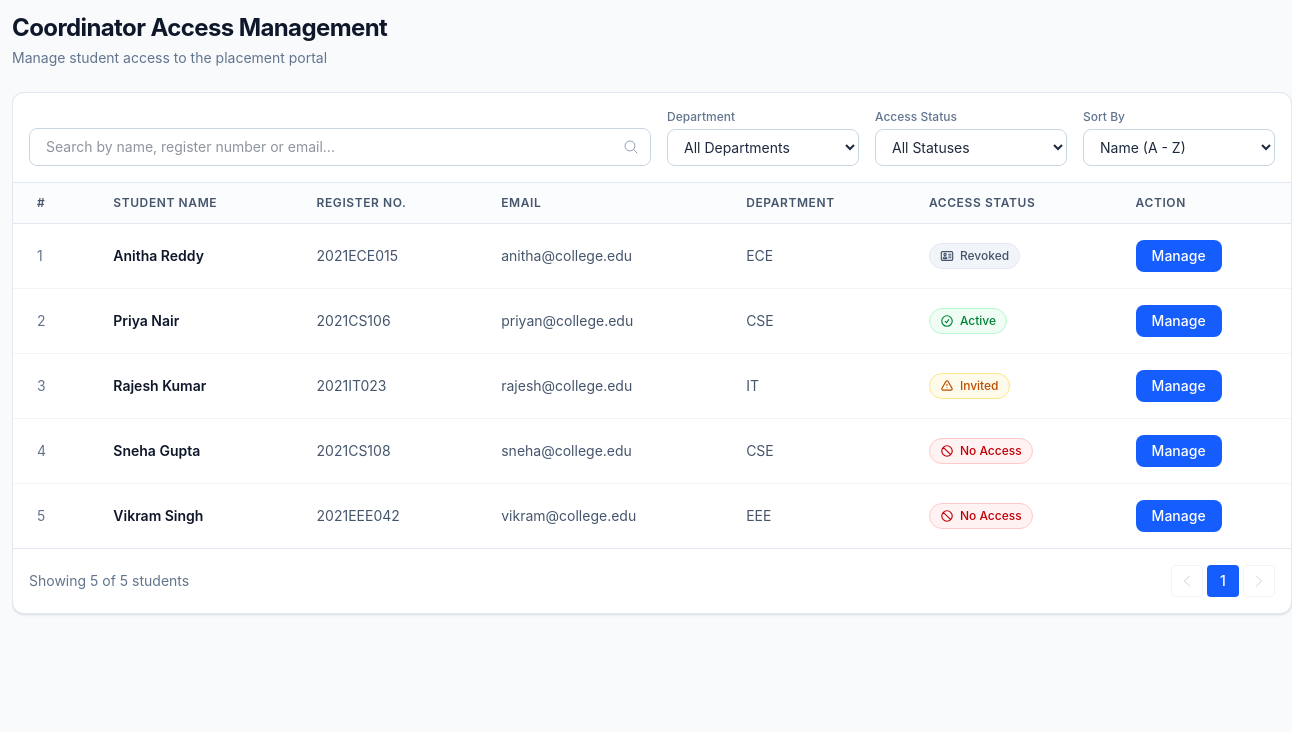
Test: Coordinator Access Management - Lifecycle Implementation › Student Access Directory › searches students by name
Expected: the text "Sneha Gupta" is shown, [89,418,292,484]
Type "Sneha" into the field with placeholder "Search by name, register number or email..." at (340, 147), box [29,128,651,166]
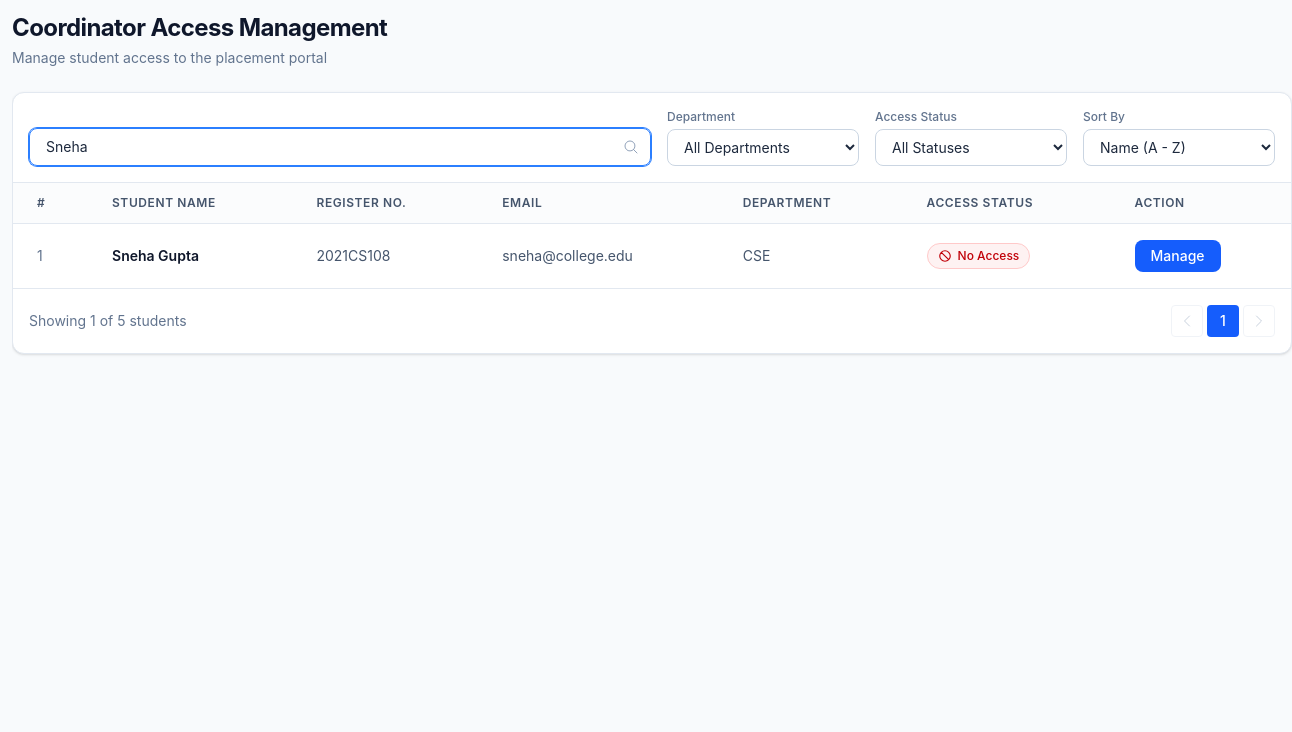
Expected: the text "Sneha Gupta" is shown, [88,224,292,288]
Result: the text "Priya Nair" is gone
